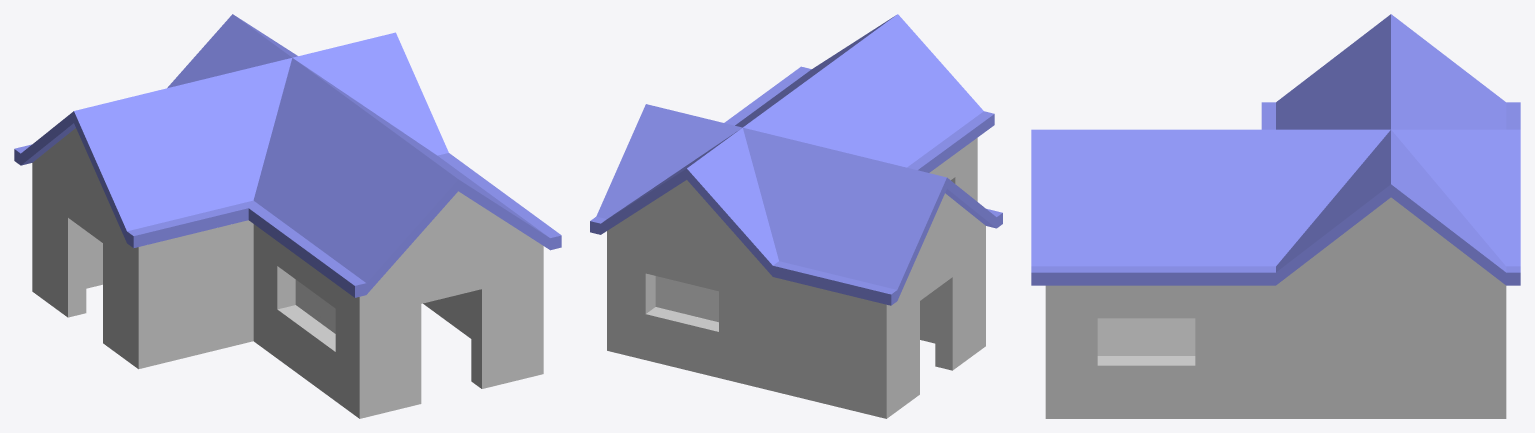
Rendered from class0.gltf.
3 renders of one model, left to right at view 1: azimuth 30°, elevation 25°; view 2: azimuth 150°, elevation 25°; view 3: azimuth 270°, elevation 25°, orthographic. The views are drawn at different scales.
Parts seen in each view (by area): view 1: roof, walls, Plane.001; view 2: roof, walls, Plane; view 3: roof, walls, Plane.002.
Part boxes in pixels (bbox=[...]): roof: bbox=[14, 14, 561, 297]; walls: bbox=[32, 128, 543, 418]; Plane.001: bbox=[295, 279, 335, 333]; roof: bbox=[590, 14, 1002, 305]; walls: bbox=[607, 138, 985, 418]; Plane: bbox=[655, 276, 718, 322]; roof: bbox=[1031, 14, 1520, 285]; walls: bbox=[1045, 197, 1506, 418]; Plane.002: bbox=[1097, 318, 1195, 355].
Bounding box in the file's own units: 0.8125 × 0.5358 × 0.9865.
